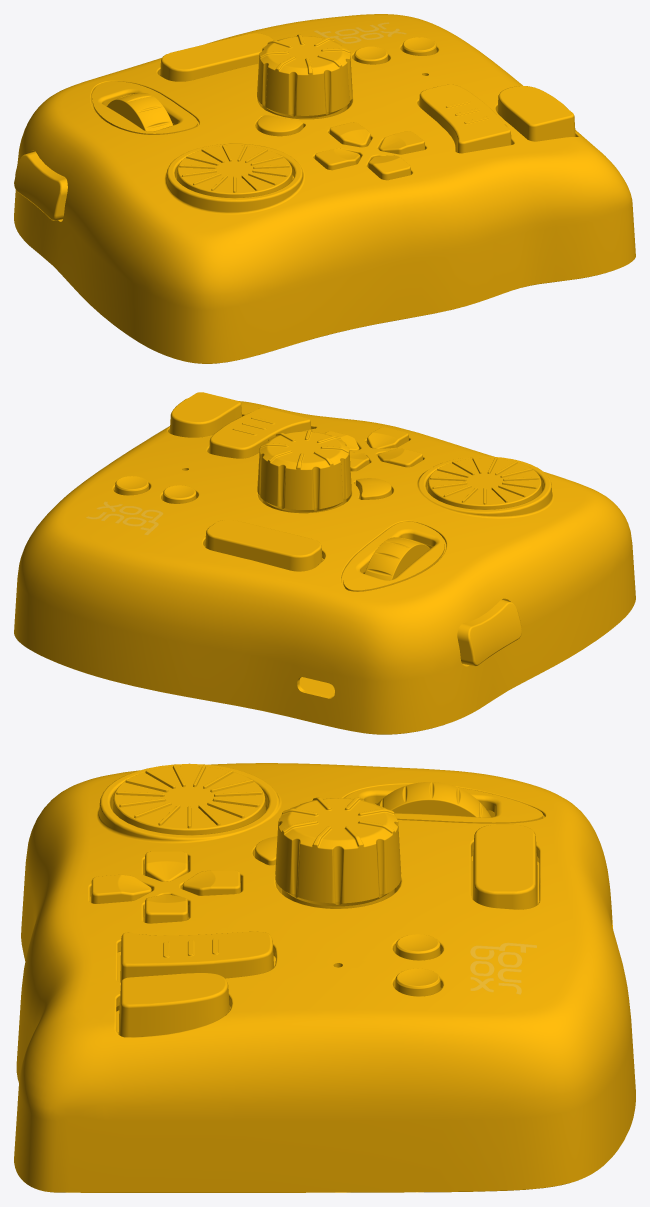
The picture shows the model from 3 angles, top to bottom: view 1: azimuth 30°, elevation 25°; view 2: azimuth 150°, elevation 25°; view 3: azimuth 270°, elevation 25°; orthographic projection. The views are drawn at different scales.
Parts seen in each view (by area): view 1: tourbox; view 2: tourbox; view 3: tourbox, Curve.005.
Part boxes in pixels (x1=…): tourbox: x1=14, y1=14, x2=635, y2=363; tourbox: x1=14, y1=392, x2=635, y2=734; tourbox: x1=14, y1=763, x2=635, y2=1192; Curve.005: x1=471, y1=943, x2=536, y2=993.
Bounding box in the file's own units: 0.1178 × 0.0449 × 0.1031.
